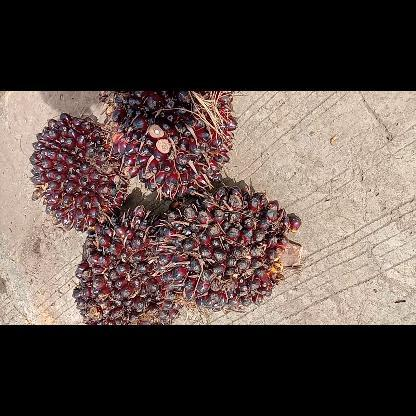TBS mentah: (148, 184, 304, 312), (100, 90, 240, 202), (70, 202, 186, 324), (25, 110, 131, 236)
